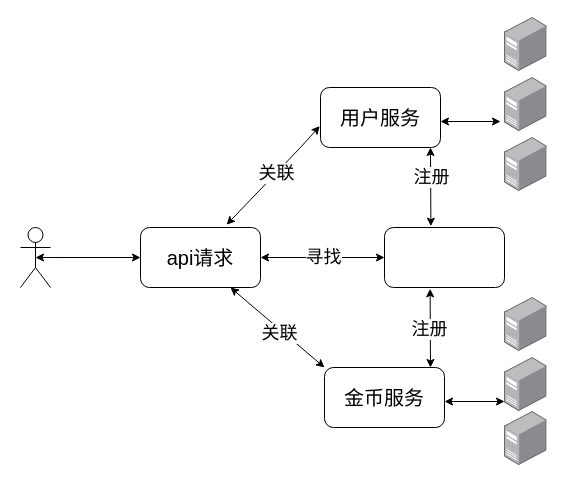
Image size: 565x482. Some labels were removed from this diagram. The centre of each missing label's shape, as x and y in pixels:
"etcd" belongs at point 444,257.
"用户" belongs at point 35,257.
